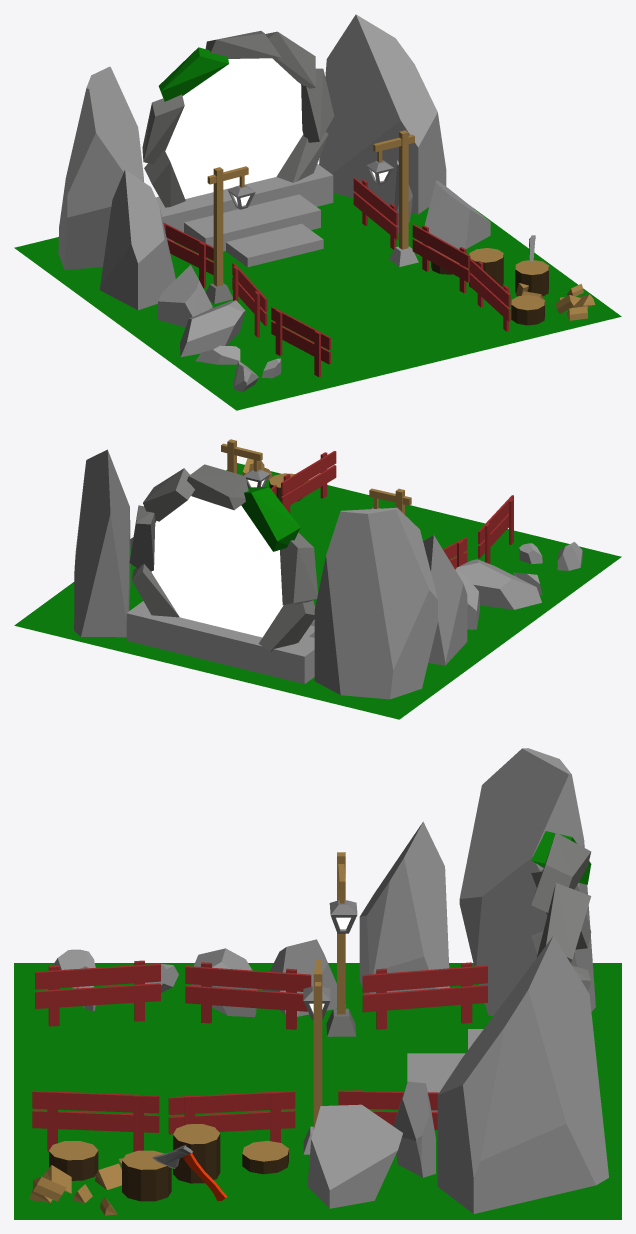
File: ReadyToExport_NotPerfect.gltf
3 views of the same model, one above another, from view 1: azimuth 30°, elevation 25°; view 2: azimuth 150°, elevation 25°; view 3: azimuth 270°, elevation 25° (orthographic). The views are drawn at different scales.
Visible parts, largest first — view 1: Ground, Cube.005, Disco, Cube.004, Cube.013, 1BigStair, 2MiddleStair, Cube.008, 3LittleStair, Cube.007, Cube.006, Cube.015 (+22 smaller); view 2: Ground, Cube.004, Disco, Cube.005, 1BigStair, Cube.013, Cube.007, Cube.015, Cube.016, Cube.014, Cube.017, Cube.003 (+10 smaller); view 3: Ground, Cube.005, Cube.004, Cube.013, Cube.008, Cube.012, Cube.026, Cube.039, Cube.027, Cube.038, Cube.014, Cube.003 (+20 smaller).
Boxes of the visible parts, <box> form: Ground: <box>14,193,621,410</box>; Cube.005: <box>319,14,446,214</box>; Disco: <box>165,58,303,198</box>; Cube.004: <box>58,66,143,270</box>; Cube.013: <box>100,169,175,310</box>; 1BigStair: <box>156,164,333,241</box>; 2MiddleStair: <box>184,194,320,251</box>; Cube.008: <box>418,180,490,255</box>; 3LittleStair: <box>226,223,323,267</box>; Cube.007: <box>180,300,245,356</box>; Cube.006: <box>158,265,212,327</box>; Cube.015: <box>158,47,228,101</box>; Ground: <box>14,463,621,719</box>; Cube.004: <box>314,507,437,699</box>; Disco: <box>151,496,283,637</box>; Cube.005: <box>74,449,130,637</box>; 1BigStair: <box>126,601,314,683</box>; Cube.013: <box>423,535,467,665</box>; Cube.007: <box>455,559,541,609</box>; Cube.015: <box>241,487,300,551</box>; Cube.016: <box>280,532,317,605</box>; Cube.014: <box>187,464,248,510</box>; Cube.017: <box>258,600,314,651</box>; Cube.003: <box>143,468,194,521</box>; Ground: <box>14,963,621,1219</box>; Cube.005: <box>437,936,608,1213</box>; Cube.004: <box>459,748,595,1015</box>; Cube.013: <box>359,821,449,994</box>; Cube.008: <box>307,1104,402,1208</box>; Cube.012: <box>394,1080,435,1177</box>; Cube.026: <box>362,965,487,992</box>; Cube.039: <box>35,983,160,1008</box>; Cube.027: <box>362,985,487,1012</box>; Cube.038: <box>35,963,160,989</box>; Cube.014: <box>531,832,591,912</box>; Cube.003: <box>537,883,591,962</box>.
Bounding box in the file's own units: 4 × 1.81 × 4.
